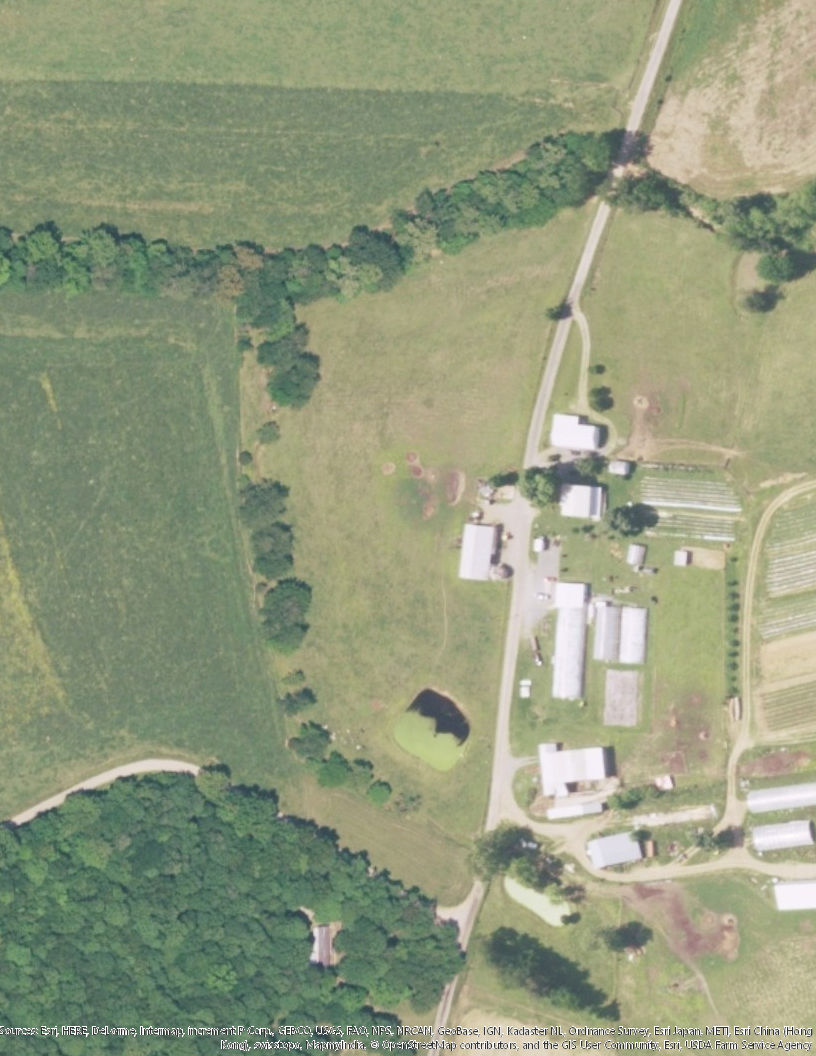cafo: (544, 575, 654, 702)
